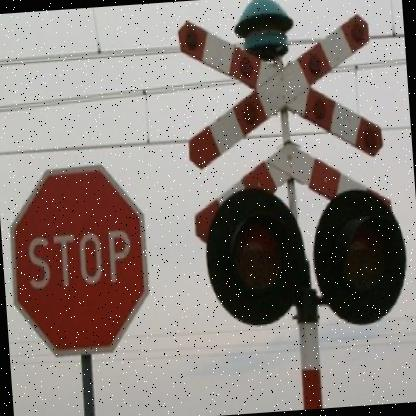stop: (3, 158, 155, 358)
